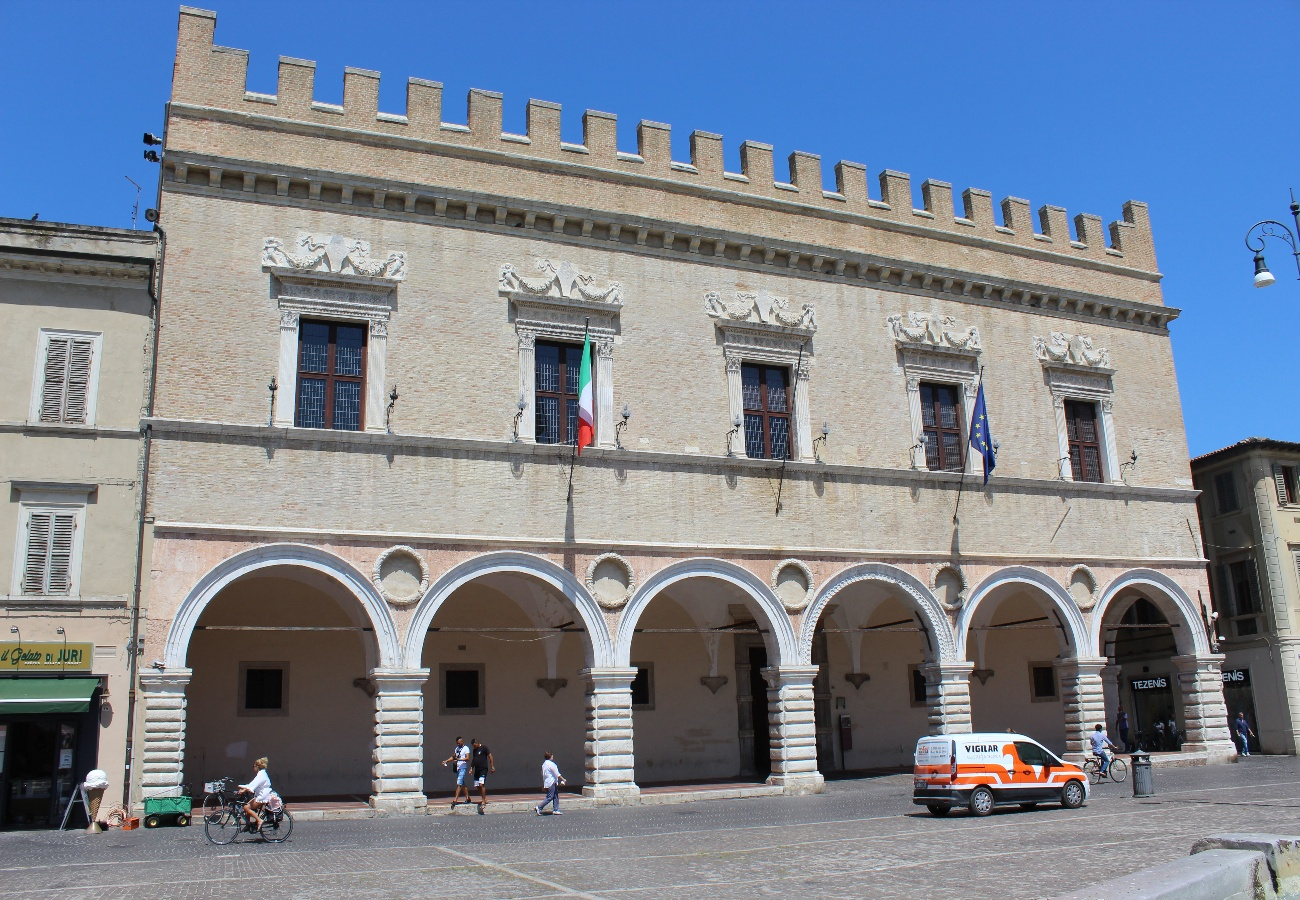Palazzo Ducale: (166, 21, 1232, 761)
